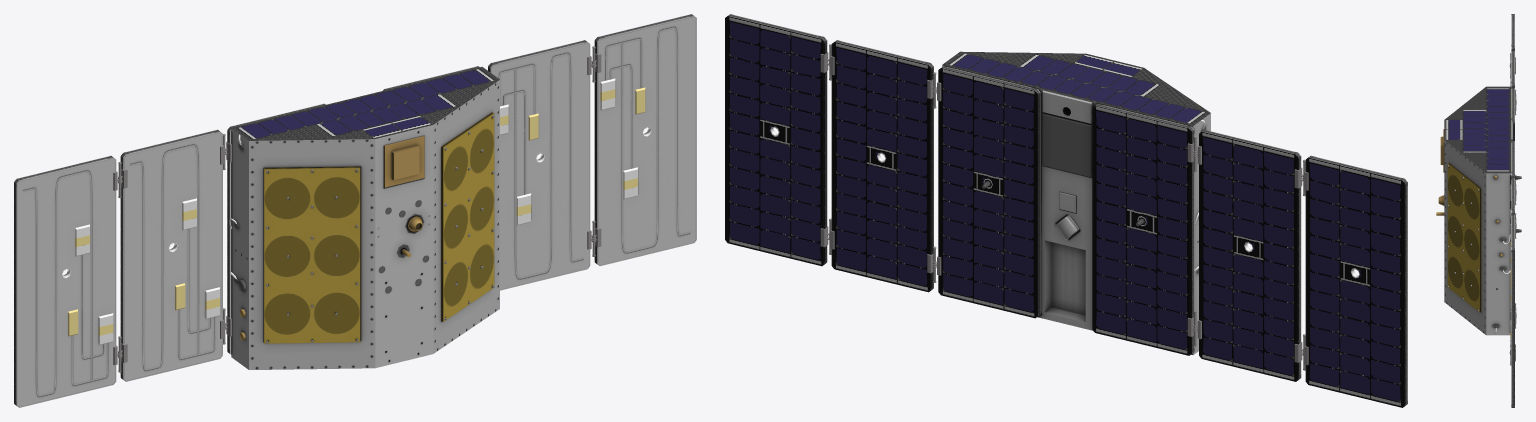
The model's file is CYGNSS.glb.
3 views of the same model, side by side, from view 1: azimuth 30°, elevation 25°; view 2: azimuth 150°, elevation 25°; view 3: azimuth 270°, elevation 25° (orthographic). The views are drawn at different scales.
Parts seen in each view (by area): view 1: BUS, array_right3, array_left2, array_right1, array_left1, array_left2_instruments, array_right2_instruments, array_right1_instruments, array_left1_instruments; view 2: BUS, array_right3, array_left2, array_left1, array_right1; view 3: BUS, array_left2, array_left1, array_right1, array_right3, array_left2_instruments, hinges_left2_left, hinges_left1_left, antenna_screws.
Part boxes in pixels (x1,y1,x2,y2): BUS: [227, 66, 499, 369]; array_right3: [14, 155, 116, 407]; array_left2: [594, 14, 696, 266]; array_right1: [120, 129, 222, 381]; array_left1: [488, 40, 590, 290]; array_left2_instruments: [600, 78, 645, 199]; array_right2_instruments: [68, 224, 113, 345]; array_right1_instruments: [175, 198, 219, 319]; array_left1_instruments: [500, 104, 538, 225]; BUS: [938, 51, 1210, 355]; array_right3: [1305, 155, 1407, 407]; array_left2: [725, 14, 827, 266]; array_left1: [831, 40, 933, 292]; array_right1: [1199, 129, 1301, 381]; BUS: [1436, 86, 1521, 335]; array_left2: [1511, 214, 1514, 407]; array_left1: [1511, 177, 1514, 214]; array_right1: [1511, 50, 1514, 87]; array_right3: [1511, 14, 1514, 50]; array_left2_instruments: [1510, 245, 1511, 344]; hinges_left2_left: [1510, 216, 1515, 365]; hinges_left1_left: [1510, 187, 1516, 324]; antenna_screws: [1447, 165, 1478, 311].
Bounding box in the file's own units: 1.59 × 0.5121 × 0.2441.
Materials: 5 (1 with a texture image).
